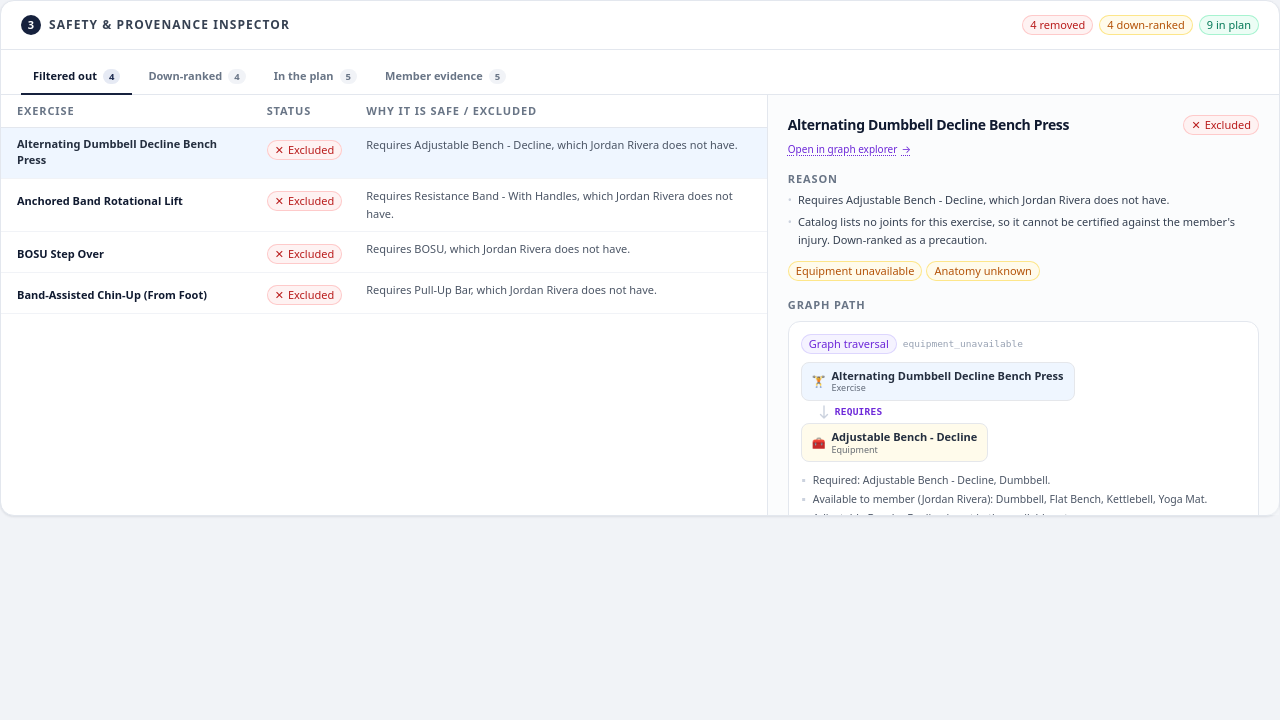
Test: SafetyInspector › switches the decision table between tabs
Expected: the button "Alternating Dumbbell Decline Bench Press" is shown, x1=17 y1=136 x2=243 y2=168
Click the tab "In the plan5": (315, 78) x1=262 y1=60 x2=369 y2=95
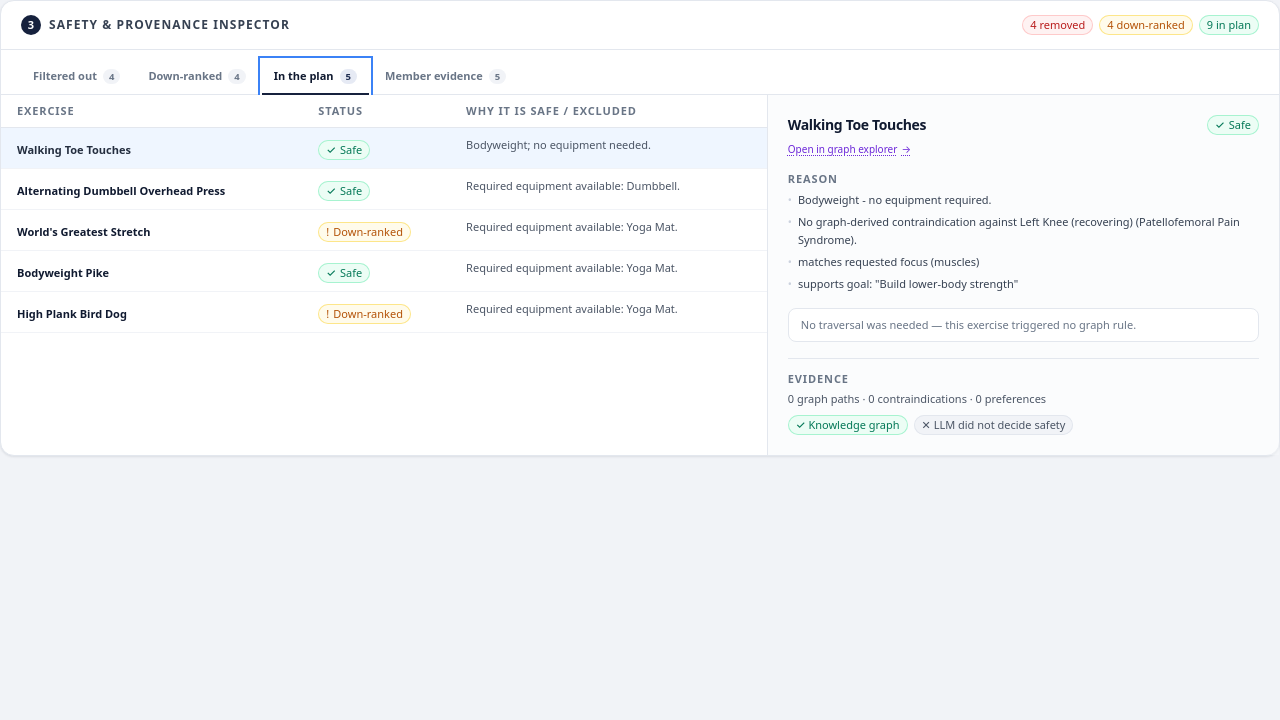
Expected: the button "Walking Toe Touches" is shown, x1=17 y1=142 x2=131 y2=158
